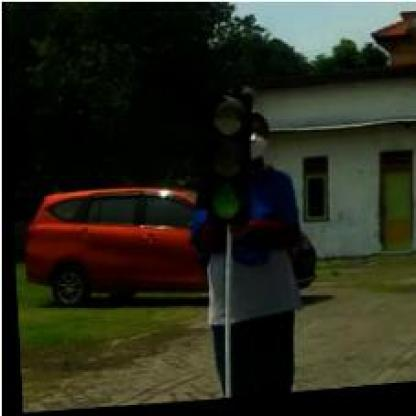green: (190, 96, 250, 226)
